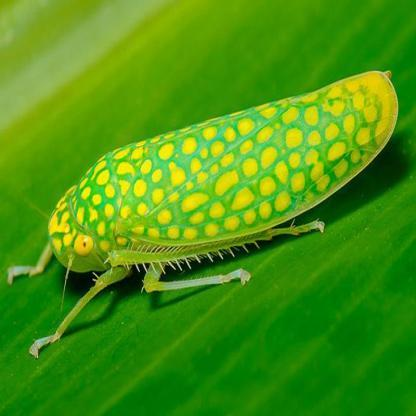green-leafhopper: (53, 70, 396, 292)
